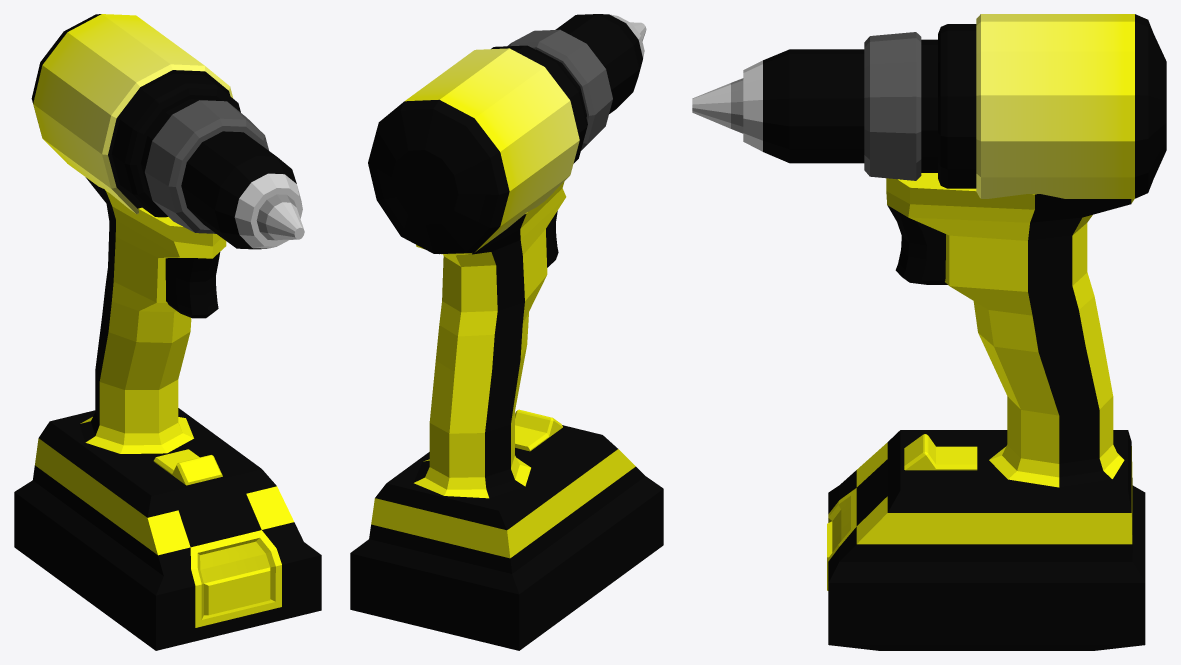
Rendered from SM_Int_Drill.fbx.
The picture shows the model from 3 angles, left to right: view 1: azimuth 30°, elevation 25°; view 2: azimuth 150°, elevation 25°; view 3: azimuth 270°, elevation 25°; orthographic projection. The views are drawn at different scales.
Visible parts, largest first — view 1: SM_Int_Drill; view 2: SM_Int_Drill; view 3: SM_Int_Drill.
Boxes of the visible parts, x1,y1,x2,y2 form: SM_Int_Drill: (14,14,321,650); SM_Int_Drill: (350,14,663,650); SM_Int_Drill: (692,14,1166,650).
Bounding box in the file's own units: 0.3275 × 1 × 0.7251.
